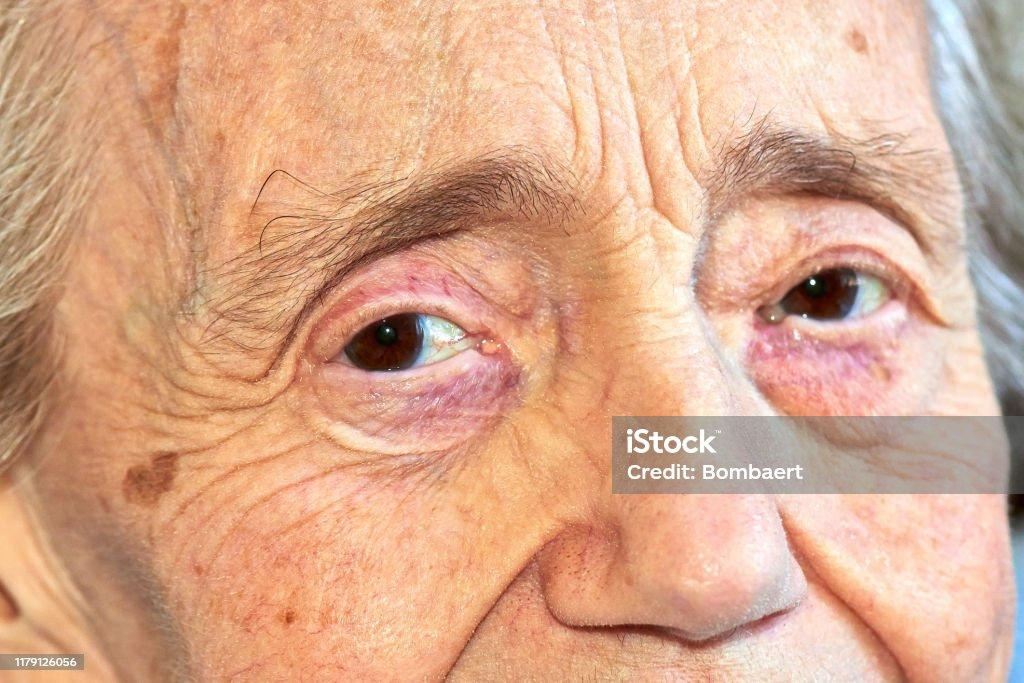Dry-Skin: (808, 423, 1024, 666), (253, 443, 601, 591), (126, 73, 295, 309), (521, 8, 753, 170), (621, 328, 768, 574)
